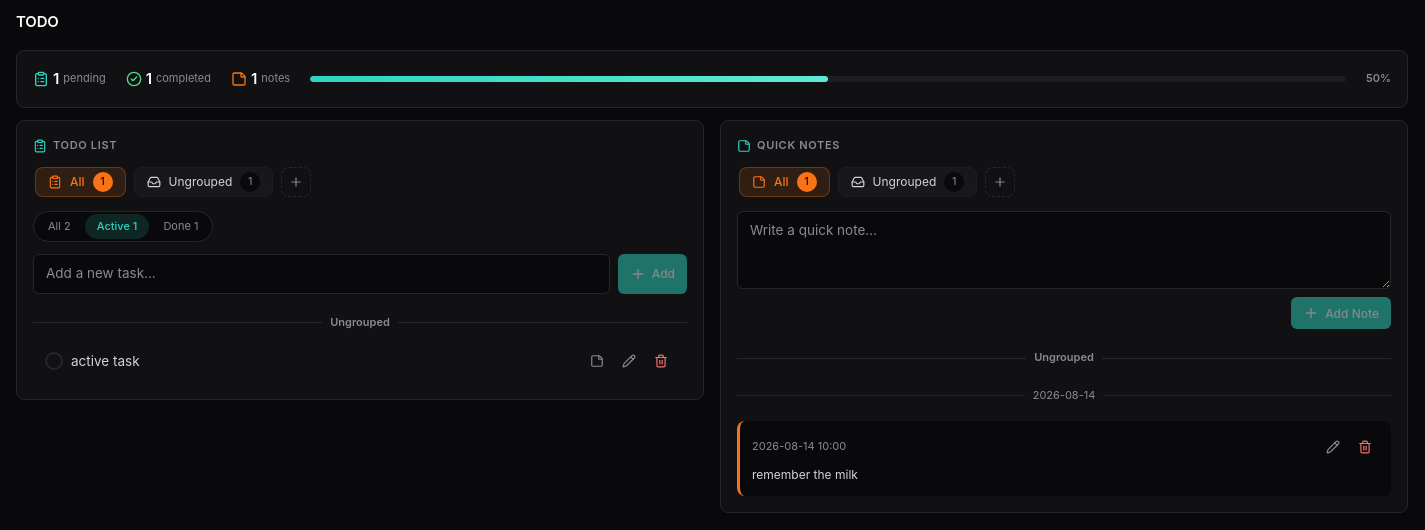
TodoPage › filter tabs toggle visible items
This screenshot has width=1425, height=530.
Expected: the text "active task" is shown, [71,353,140,369]
Expected: the text "finished task" is not shown
Click the button "All 2" at (59, 226), box [36,214,83,239]
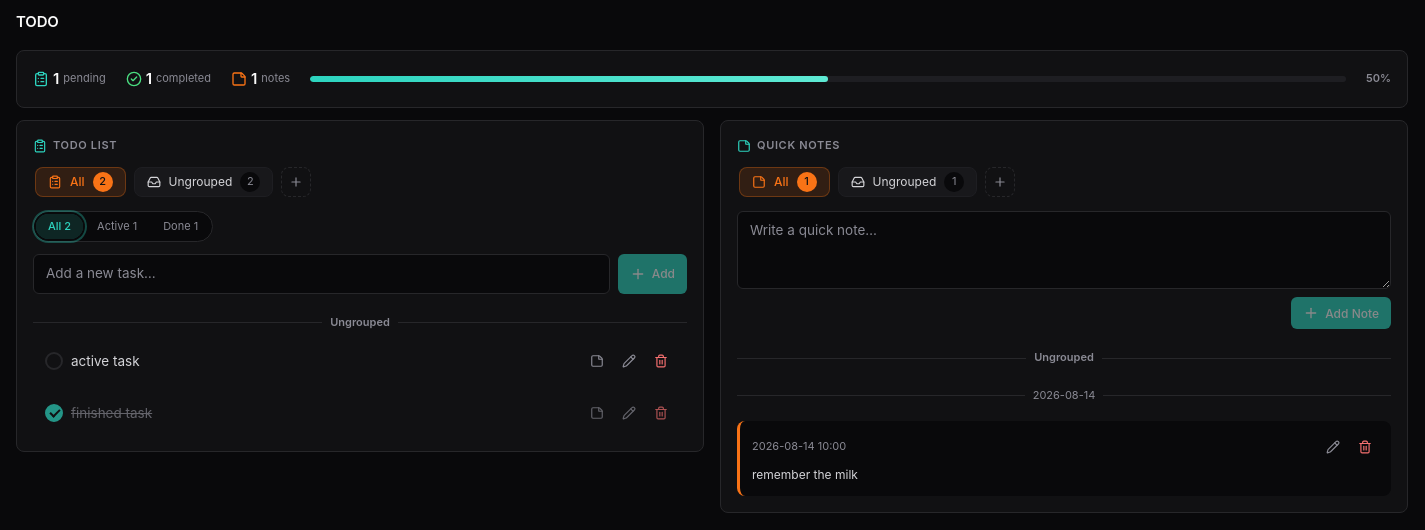
Expected: the text "active task" is shown, [71,353,140,369]
Expected: the text "finished task" is shown, [71,405,152,421]
Click the button "Active 1" at (117, 226), box [85,214,149,239]
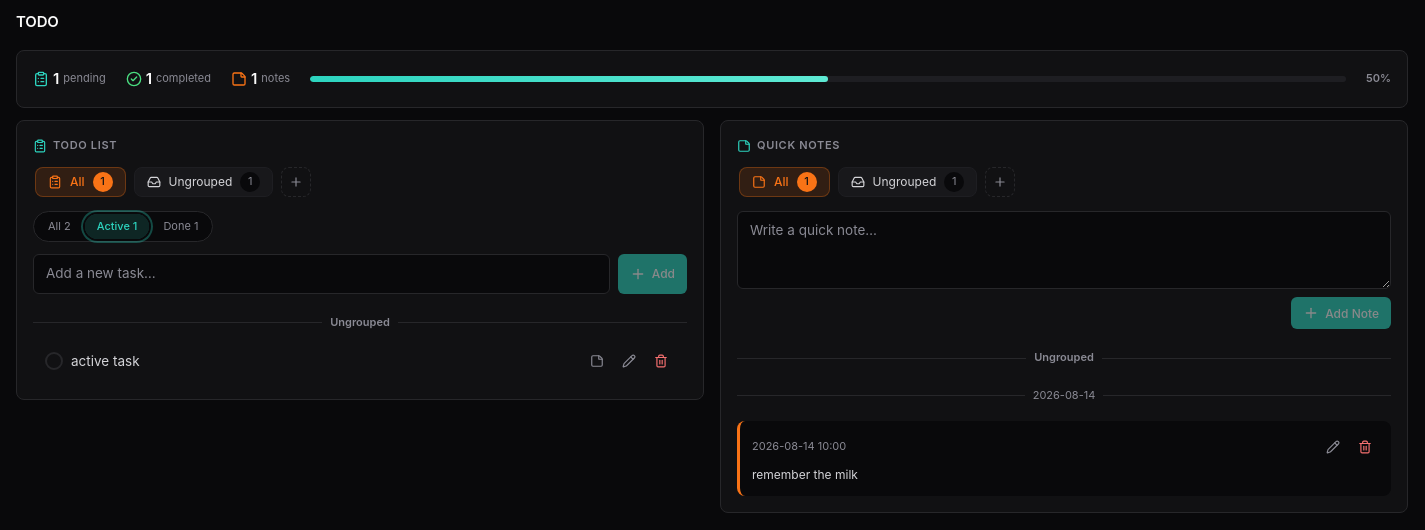
Expected: the text "active task" is shown, [71,353,140,369]
Expected: the text "finished task" is gone
Click the button "Done 1" at (181, 226), box [151,214,210,239]
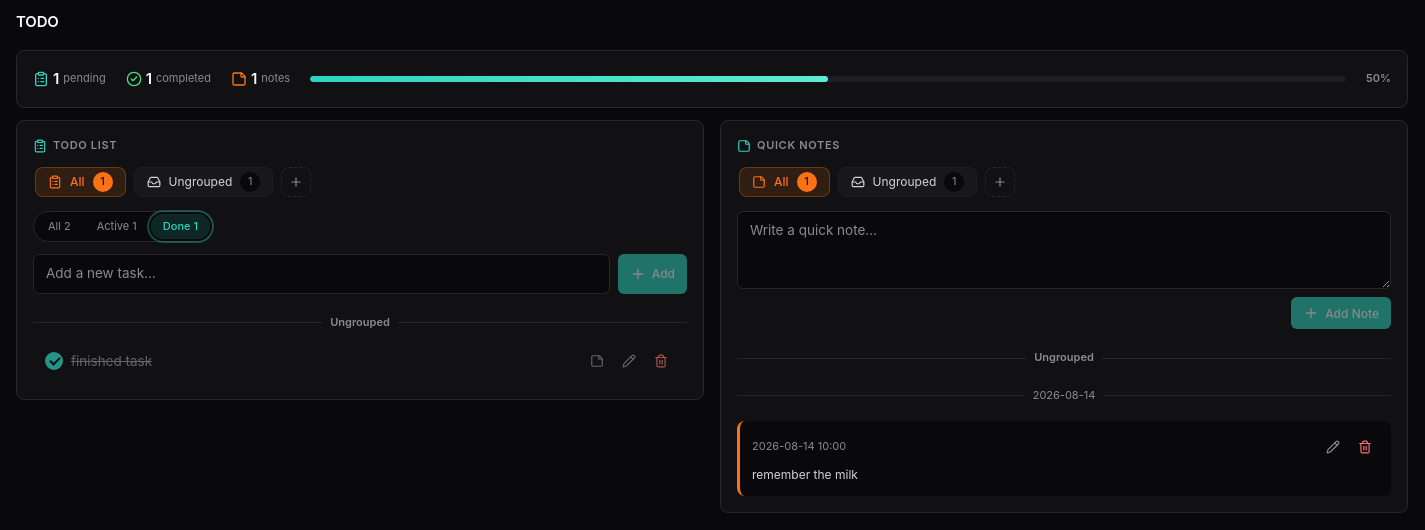
Expected: the text "active task" is gone
Expected: the text "finished task" is shown, [71,353,152,369]
Click the button "All 2" at (59, 226), box [36,214,83,239]
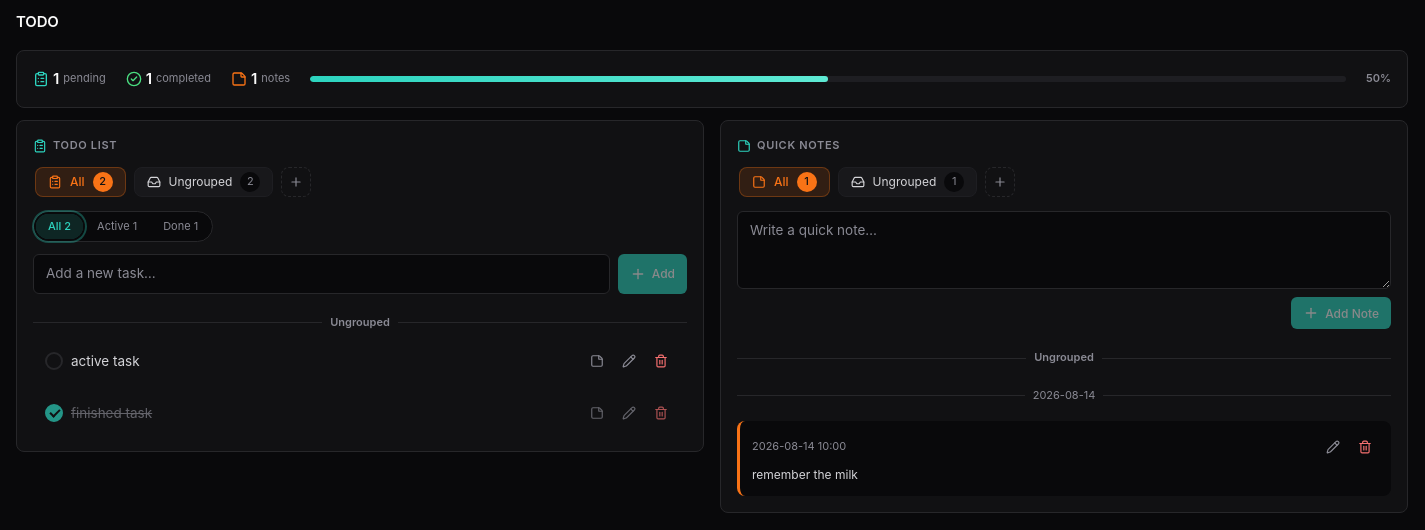
Expected: the text "finished task" is shown, [71,405,152,421]
Expected: the text "active task" is shown, [71,353,140,369]
